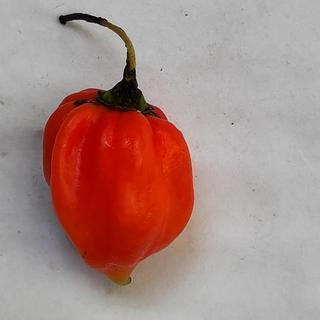Grade-A: (34, 98, 198, 292)
